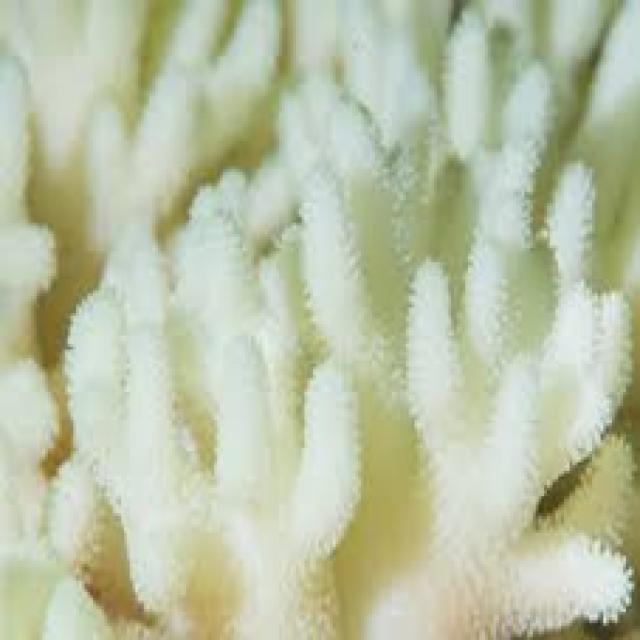Bleached: (4, 1, 635, 638)
